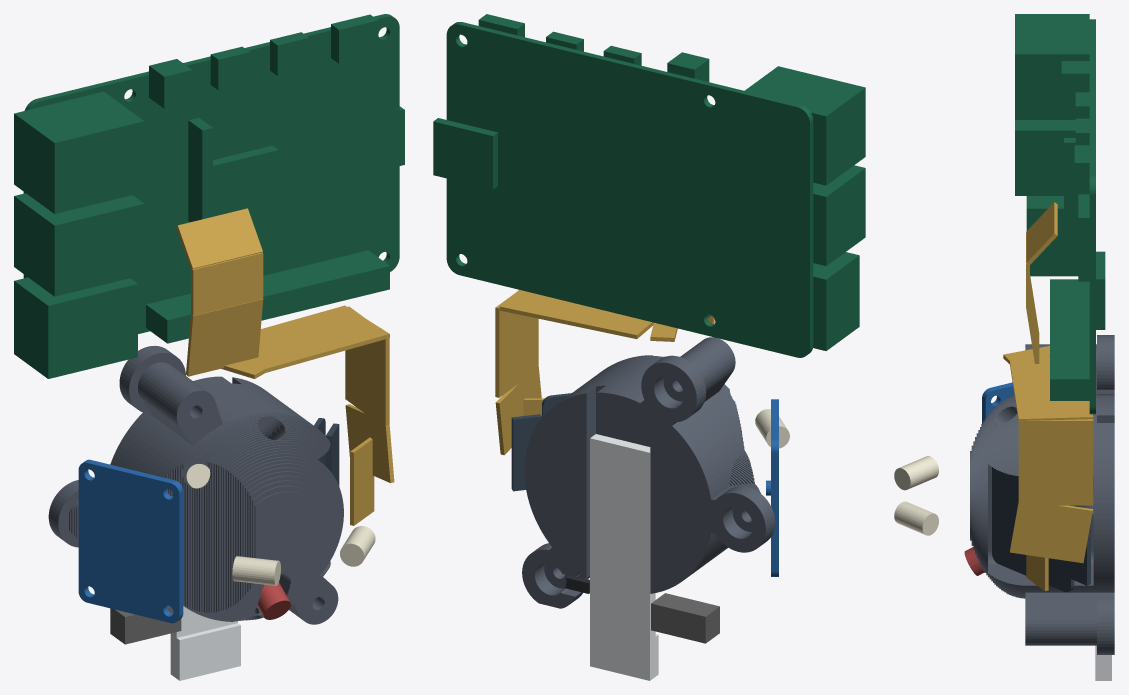
File: cutaway.glb
3 views of the same model, side by side, from view 1: azimuth 30°, elevation 25°; view 2: azimuth 150°, elevation 25°; view 3: azimuth 270°, elevation 25° (orthographic). The views are drawn at different scales.
Visible parts, largest first — view 1: mock_pi4b, optical_head, mock_csi_ribbon, mock_as7341, mock_cartridge, mock_touch_leds, mock_switch, mock_laser, mock_camera; view 2: mock_pi4b, optical_head, mock_cartridge, mock_csi_ribbon, mock_switch, mock_camera, mock_as7341, mock_touch_leds; view 3: mock_pi4b, optical_head, mock_csi_ribbon, mock_camera, mock_touch_leds, mock_as7341, mock_cartridge.
Boxes of the visible parts, x1,y1,x2,y2 form: mock_pi4b: (14,14,404,378); optical_head: (48,345,343,624); mock_csi_ribbon: (176,208,394,525); mock_as7341: (78,459,183,623); mock_cartridge: (170,606,240,680); mock_touch_leds: (232,526,375,585); mock_switch: (110,605,181,644); mock_laser: (257,582,290,619); mock_camera: (314,418,339,486); mock_pi4b: (433,14,865,357); optical_head: (522,337,775,608); mock_cartridge: (590,434,658,680); mock_csi_ribbon: (495,290,714,455); mock_switch: (651,593,719,643); mock_camera: (511,393,571,491); mock_as7341: (766,399,778,576); mock_touch_leds: (755,409,789,448); mock_pi4b: (1015,14,1105,414); optical_head: (970,335,1114,654); mock_csi_ribbon: (1003,202,1093,591); mock_camera: (992,467,1090,592); mock_touch_leds: (894,456,938,535); mock_as7341: (982,382,1014,423); mock_cartridge: (1095,645,1111,680).
Bounding box in the file's own units: 90 × 136 × 47.28.
